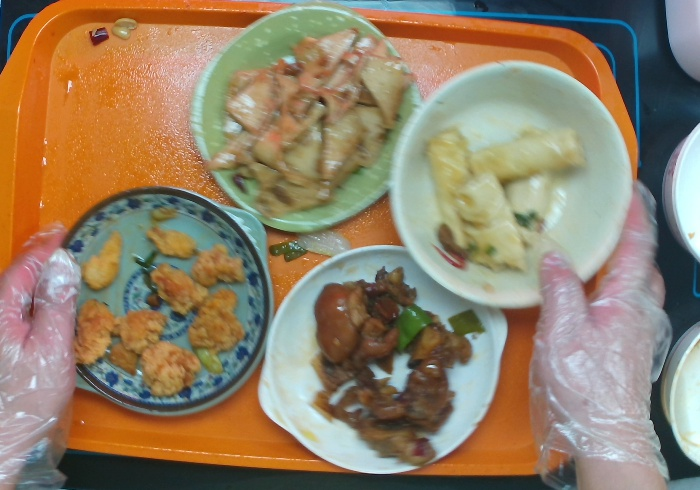NLDX-Bai_Se_Shuang_Er_Die: (253, 240, 513, 480)
NLDX-Bai_Se_Yuan_Wan: (386, 56, 640, 310)
NLDX-Lv_Hua_Fang_Die: (184, 4, 424, 231)
NLDX-Qing_Hua_Shuang_Er_Die: (48, 179, 277, 419)
